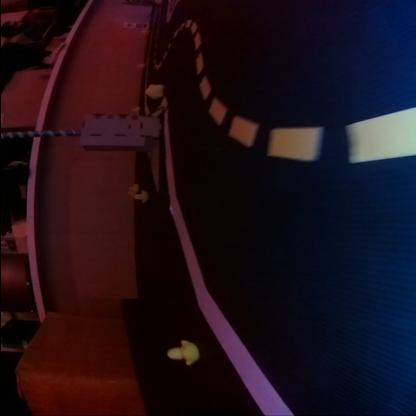Duckie: (166, 338, 198, 364), (144, 83, 163, 98), (134, 191, 146, 202), (126, 183, 136, 191), (130, 106, 138, 112), (137, 63, 144, 69)
